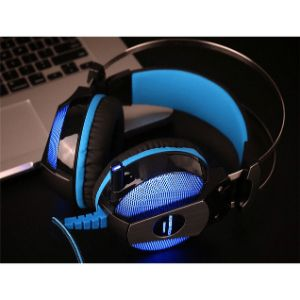headset: (32, 38, 286, 258)
